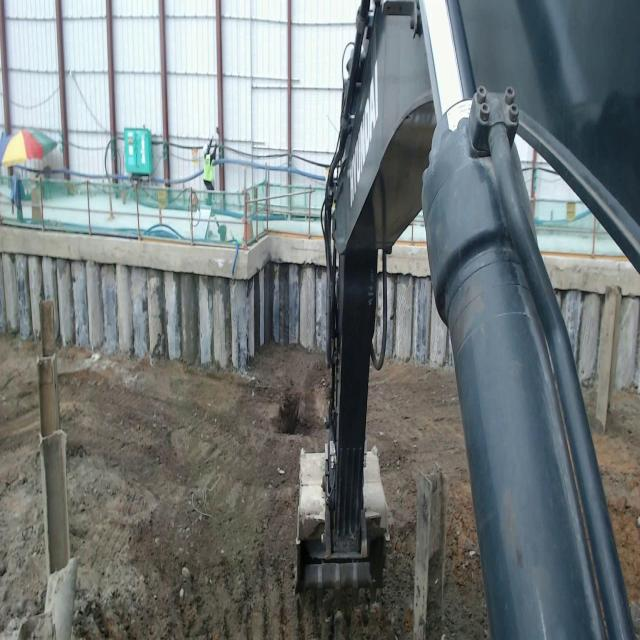white-sand: (58, 345, 487, 639), (0, 337, 49, 639), (593, 393, 640, 600)
